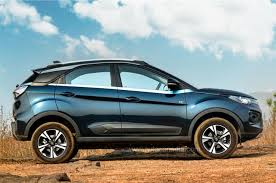Tata Nexon: (10, 60, 265, 163)
